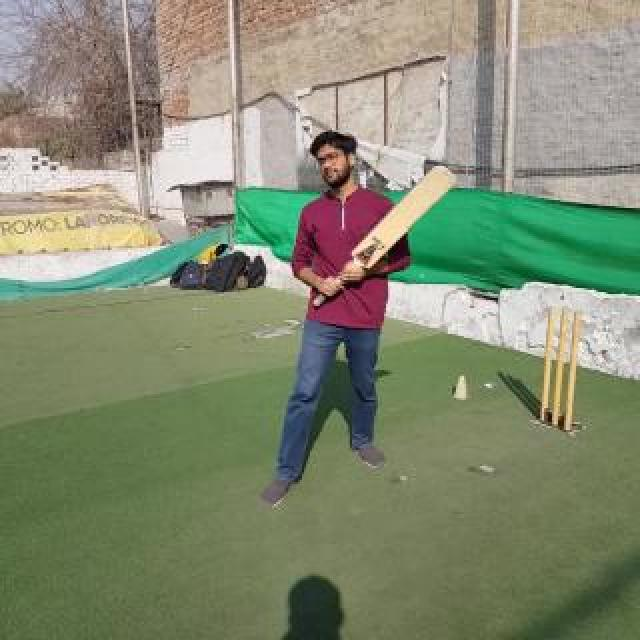bat: (312, 166, 458, 306)
